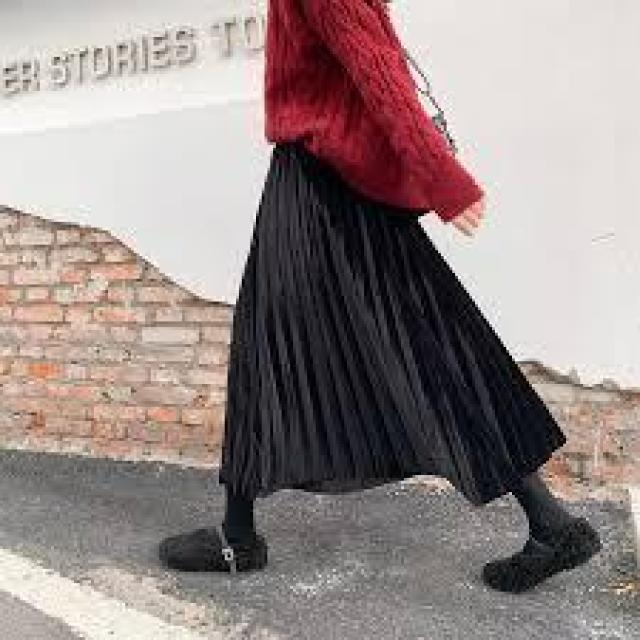skirt: (228, 130, 540, 490)
sweater: (269, 0, 488, 205)
